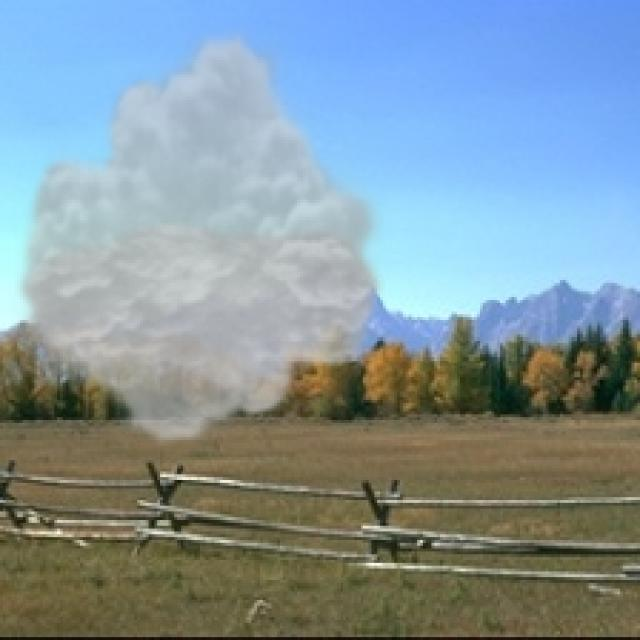Smoke: (9, 26, 392, 448)
